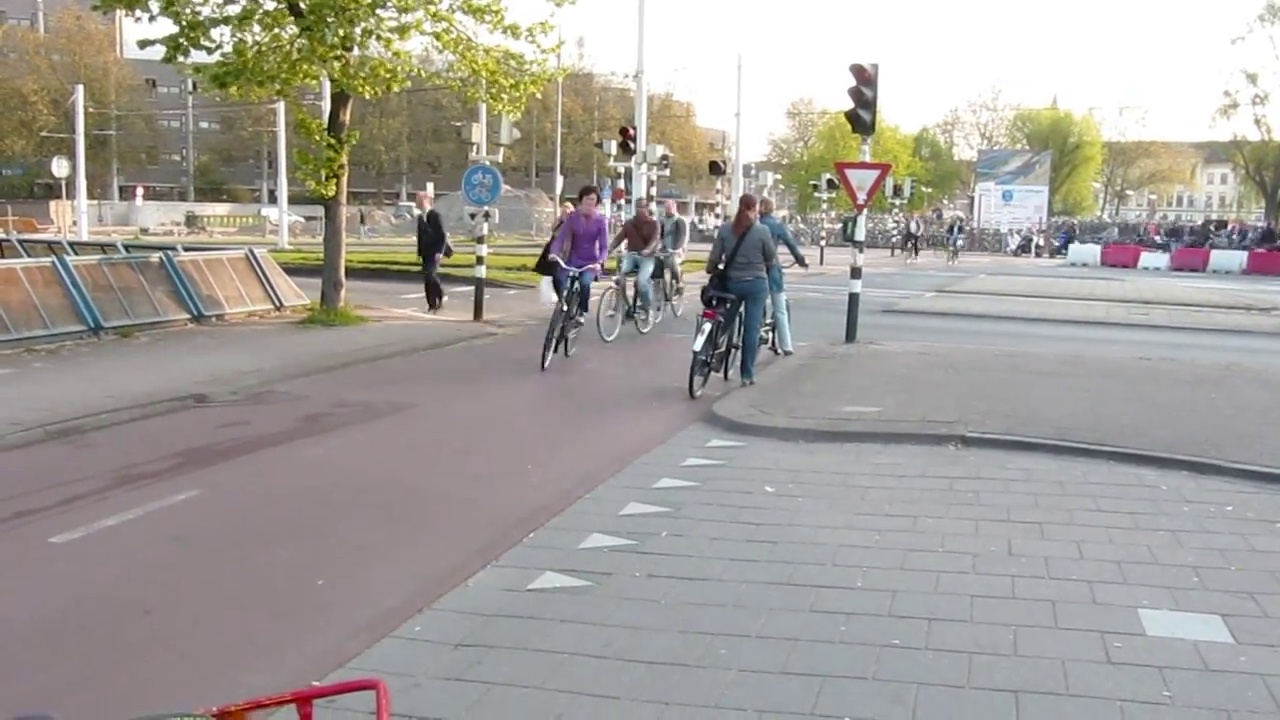cyclist_back: (686, 186, 759, 406)
cyclist_front: (534, 179, 593, 381), (647, 188, 700, 323), (901, 207, 922, 263)
cyclist_side: (602, 194, 657, 343)
